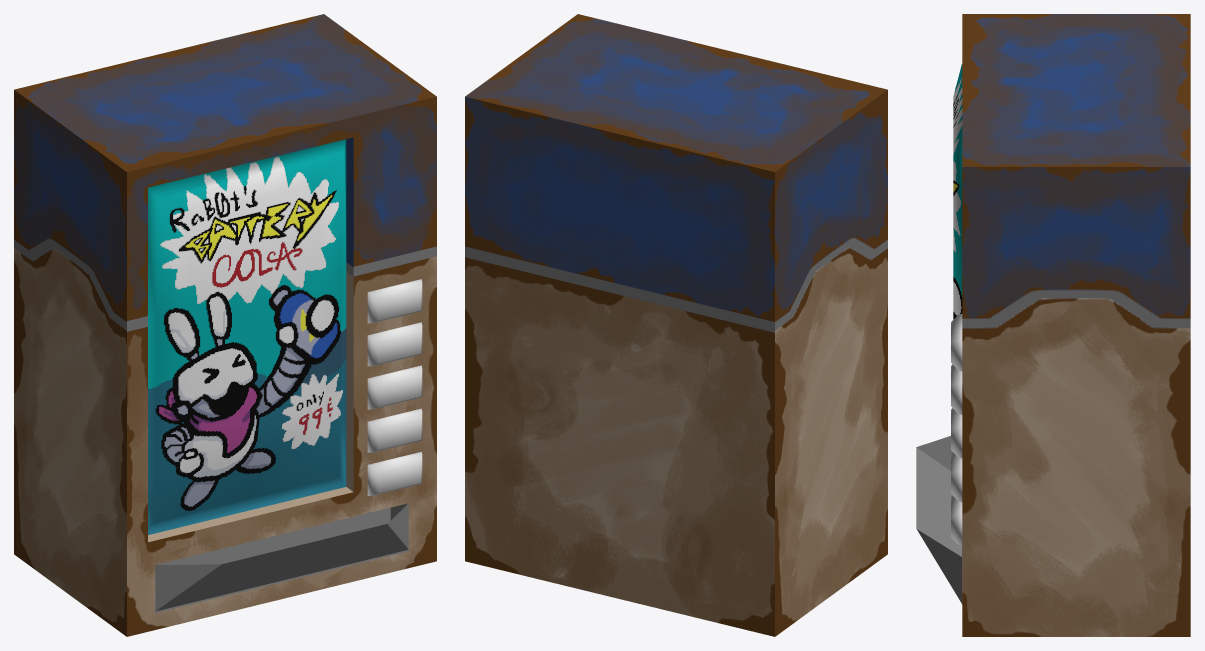
File: vendingMachine.fbx
3 views of the same model, side by side, from view 1: azimuth 30°, elevation 25°; view 2: azimuth 150°, elevation 25°; view 3: azimuth 270°, elevation 25° (orthographic).
Parts seen in each view (by area): view 1: Cube.001; view 2: Cube.001; view 3: Cube.001.
Part boxes in pixels (x1,y1,x2,y2): Cube.001: [14, 14, 436, 636]; Cube.001: [465, 14, 887, 636]; Cube.001: [916, 14, 1190, 636].
Size of the model in its own units: 9.77 by 14 by 7.4.
Materials: 3 (2 with a texture image).
